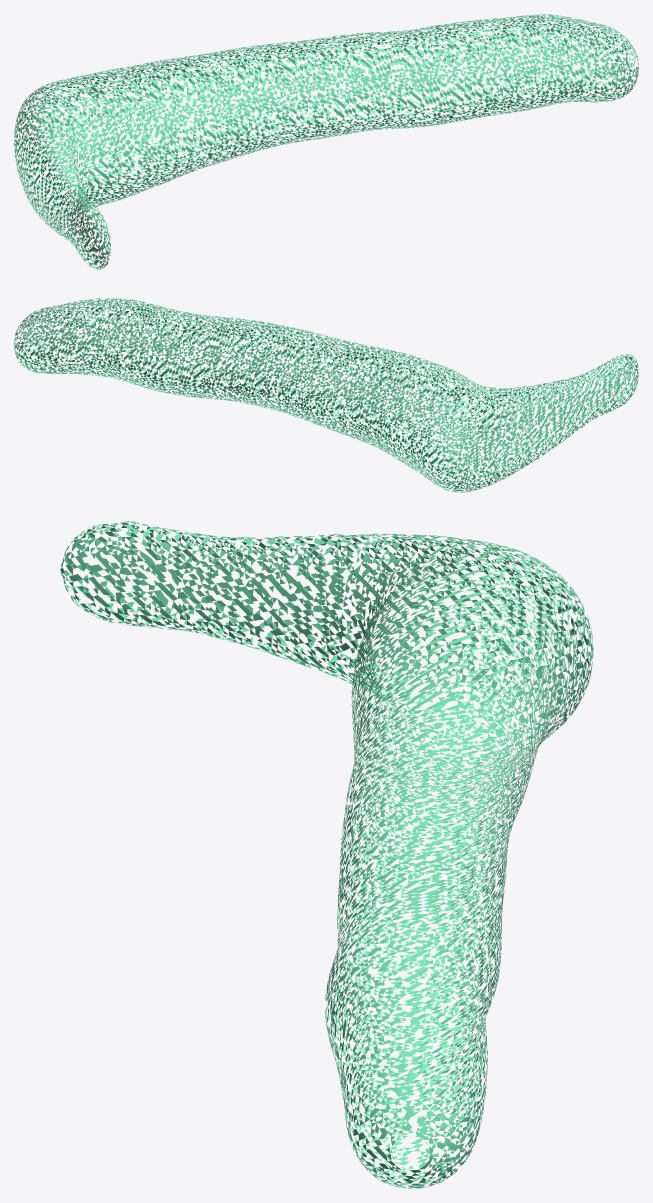
The model's file is healthy.glb.
3 views of the same model, one above another, from view 1: azimuth 30°, elevation 25°; view 2: azimuth 150°, elevation 25°; view 3: azimuth 270°, elevation 25° (orthographic). The views are drawn at different scales.
Bounding box in the file's own units: 134 × 25.64 × 57.5.
